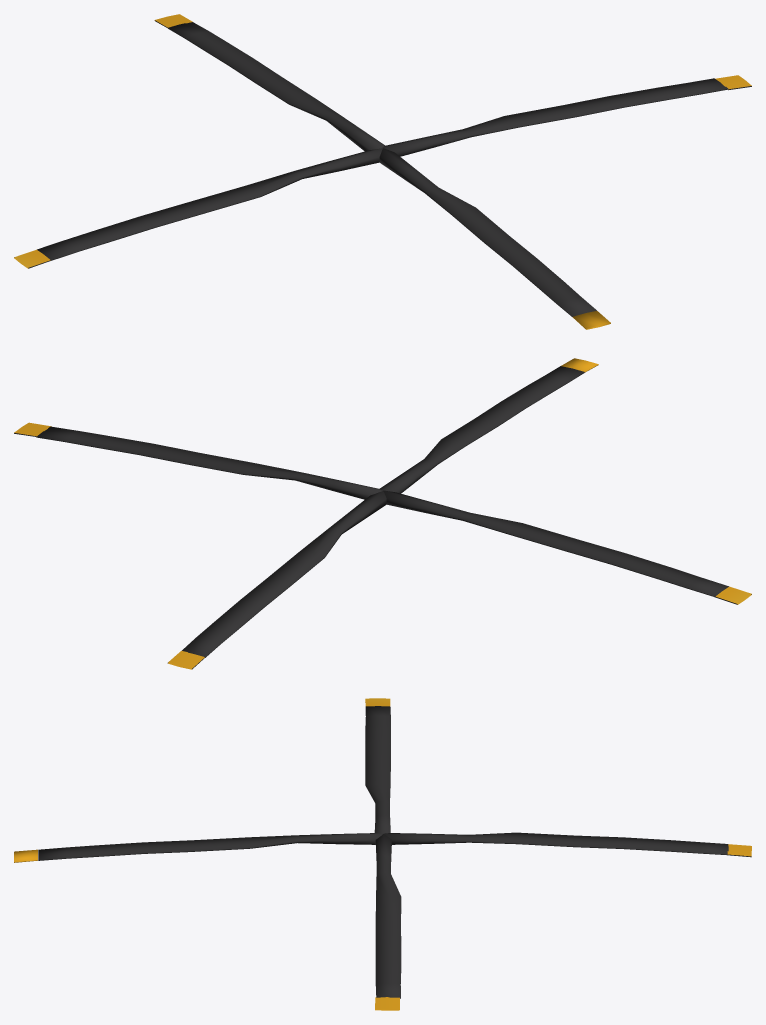
File: helicopter_main_rotor.glb
3 renders of one model, top to bottom at view 1: azimuth 30°, elevation 25°; view 2: azimuth 150°, elevation 25°; view 3: azimuth 270°, elevation 25°, orthographic. The views are drawn at different scales.
Visible parts, largest first — view 1: static_rotor_Mat_maverick.011_ec1351.bmp_0; view 2: static_rotor_Mat_maverick.011_ec1351.bmp_0; view 3: static_rotor_Mat_maverick.011_ec1351.bmp_0.
Part boxes in pixels (left/top/right/bottom): static_rotor_Mat_maverick.011_ec1351.bmp_0: left=14, top=14, right=751, bottom=329; static_rotor_Mat_maverick.011_ec1351.bmp_0: left=14, top=358, right=751, bottom=669; static_rotor_Mat_maverick.011_ec1351.bmp_0: left=14, top=698, right=751, bottom=1010.
Size of the model in its own units: 10.17 by 0.3424 by 10.19.
1 material, 1 textured.
